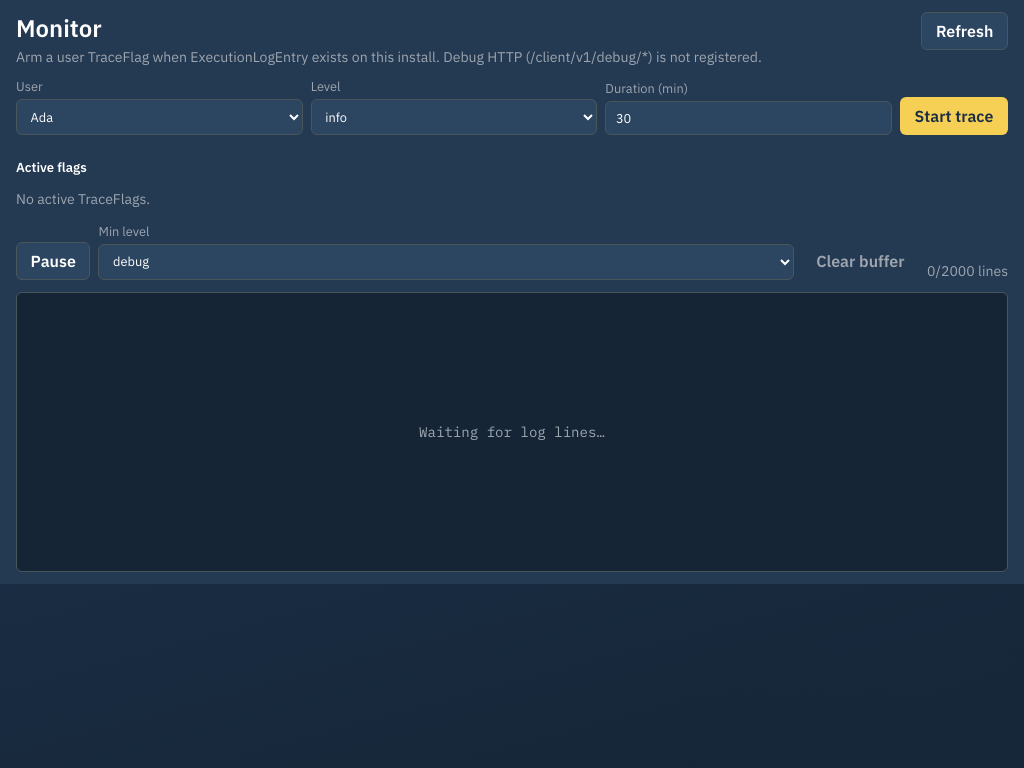
Test case: MonitorPanel › arms, pauses, clears, and stops a TraceFlag via Client objects
Select "Ada" in the dropdown with test id "monitor-user-select" at (159, 117), box [16,99,303,135]
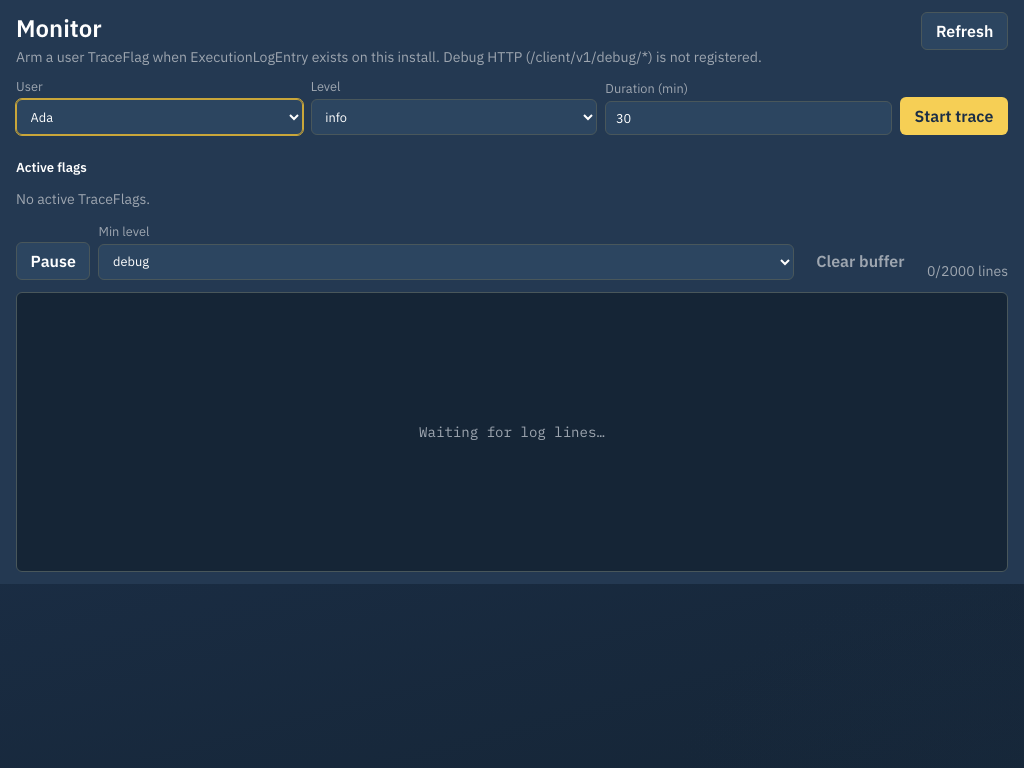
Click the button "Start trace".
click(954, 116)  # box [900,97,1008,135]
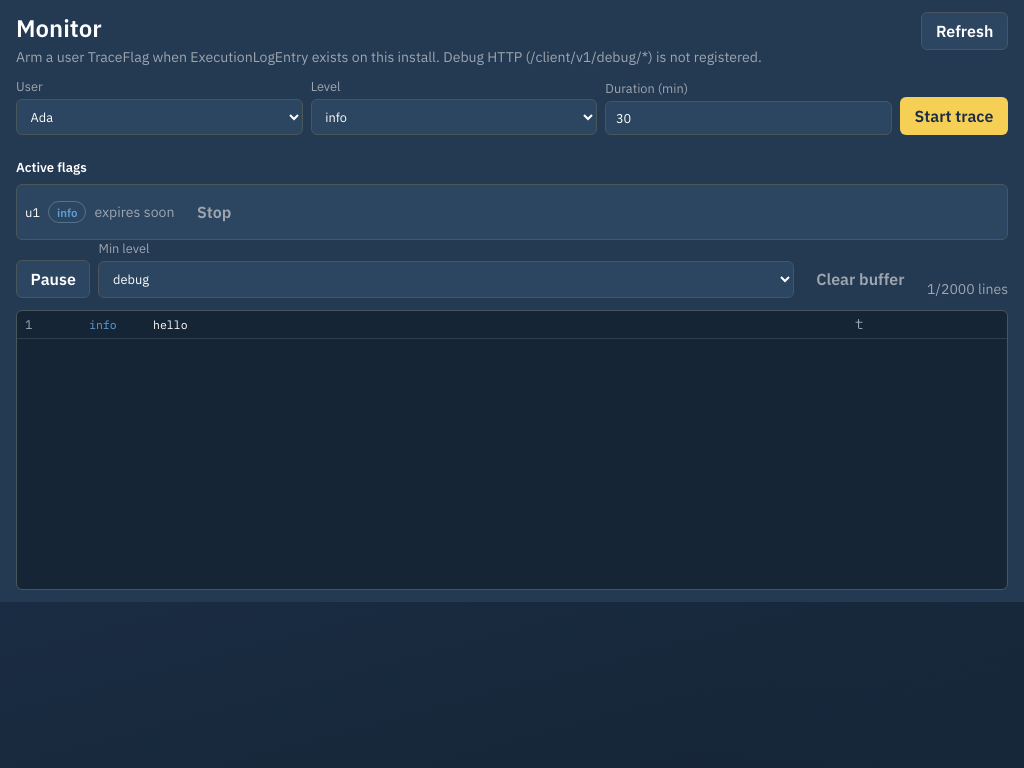
Now the text "u1" is shown, box [25,204,40,220]
Click the button with test id "monitor-pause".
click(53, 279)  # box [16,260,90,298]
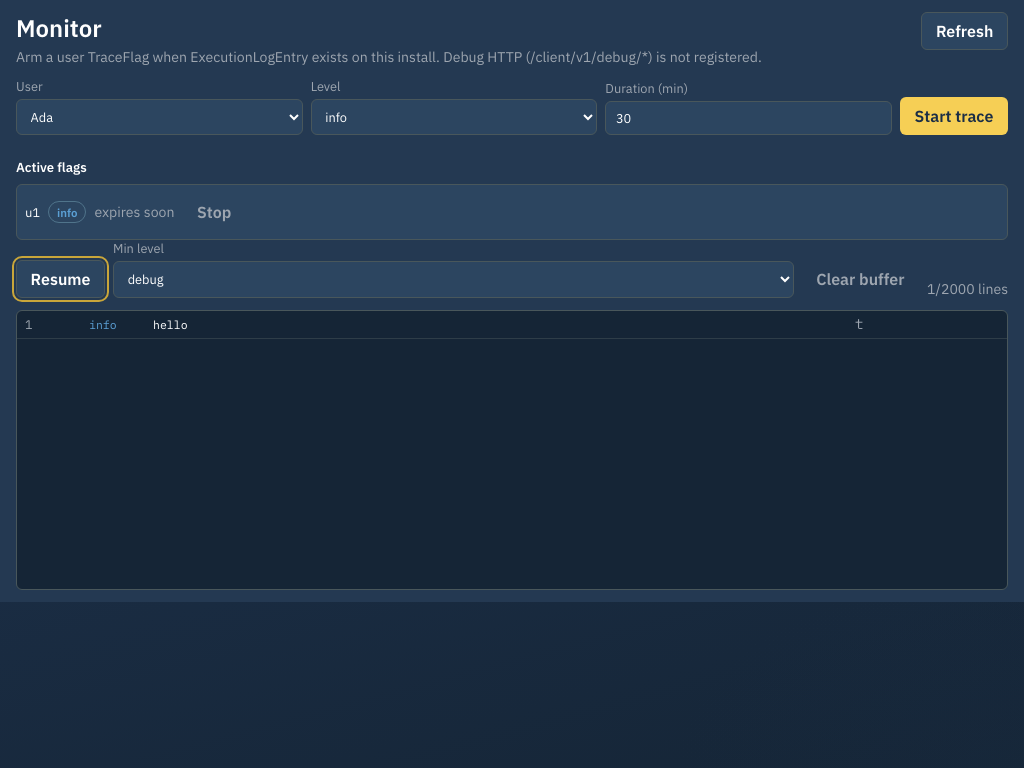
Now the button "Resume" is shown, box [16,260,105,298]
Click the button "Clear buffer".
click(860, 279)  # box [802,260,919,298]
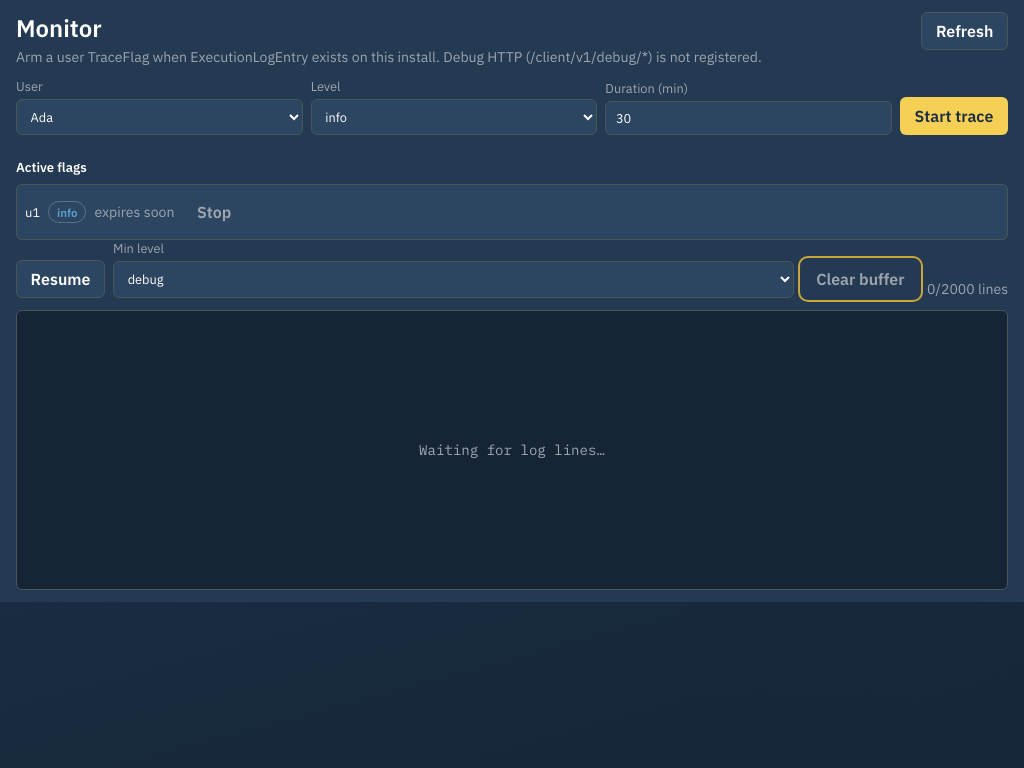
Click the button "Stop".
click(214, 212)  # box [182,193,246,231]
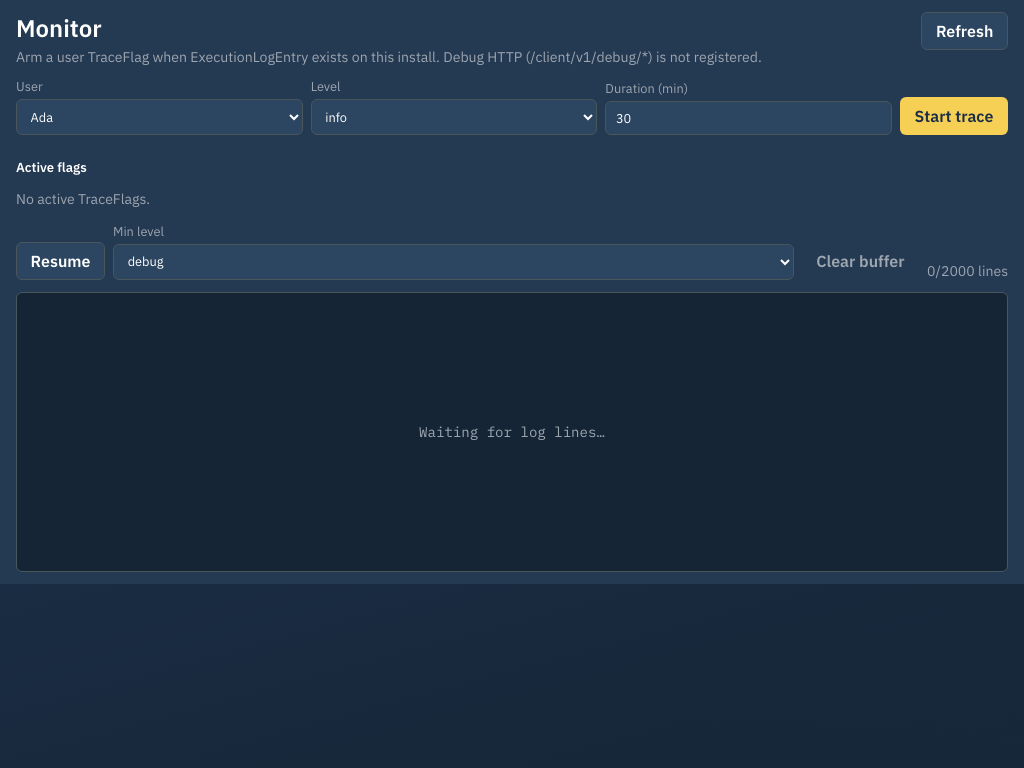
Now the text "No active TraceFlags." is shown, box [16,190,150,208]
